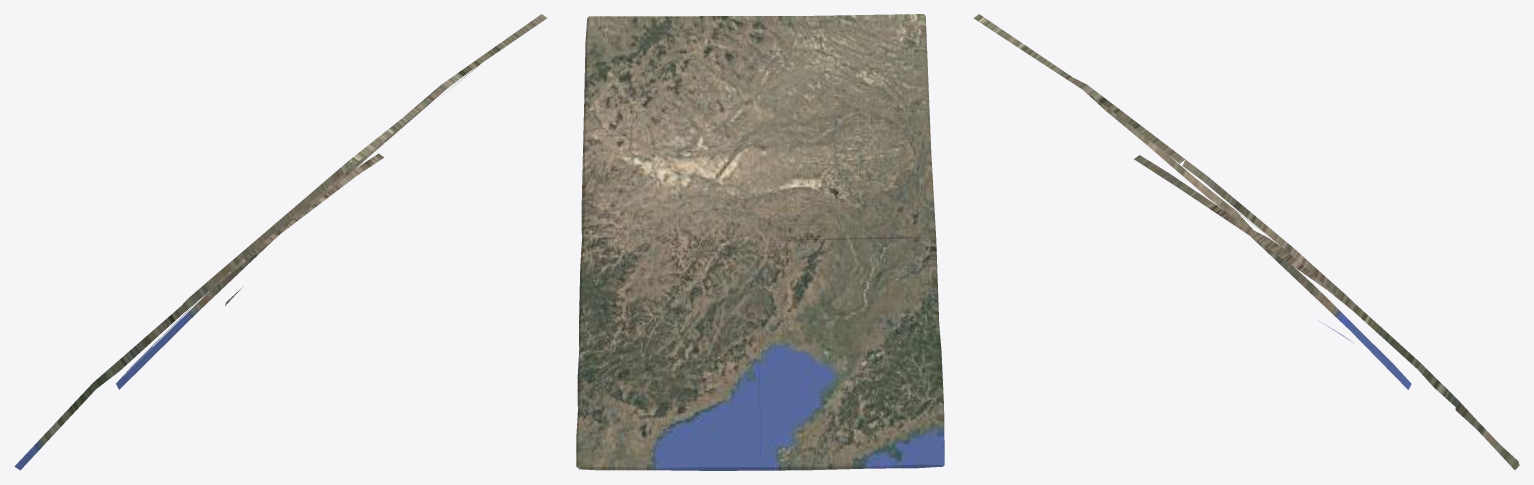
3 renders of one model, left to right at view 1: azimuth 30°, elevation 25°; view 2: azimuth 150°, elevation 25°; view 3: azimuth 270°, elevation 25°, orthographic. The views are drawn at different scales.
Size of the model in its own units: 620334 by 473446 by 605454.
Materials: 1 (1 with a texture image).
